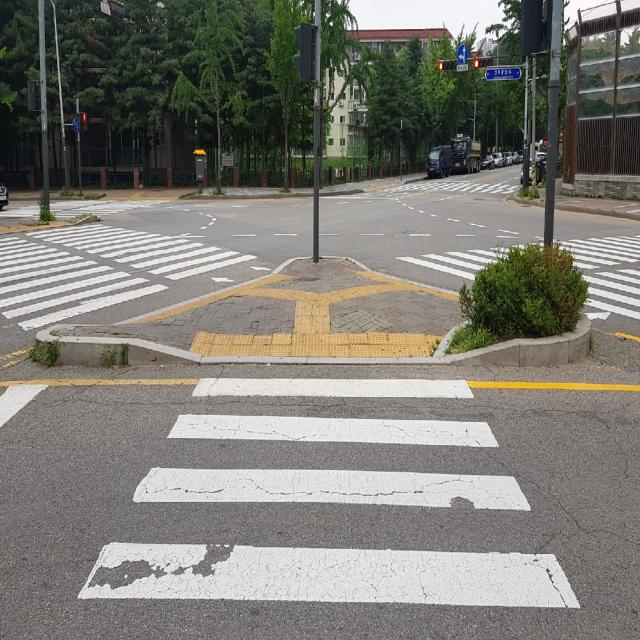빨간불: (78, 106, 87, 128)
횡단보도: (74, 373, 585, 614), (0, 190, 262, 336), (394, 229, 640, 338)
